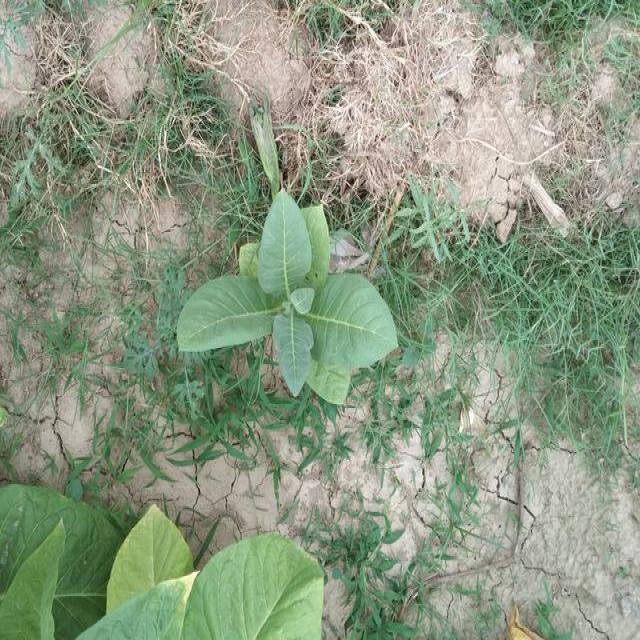crop: (175, 175, 406, 406)
